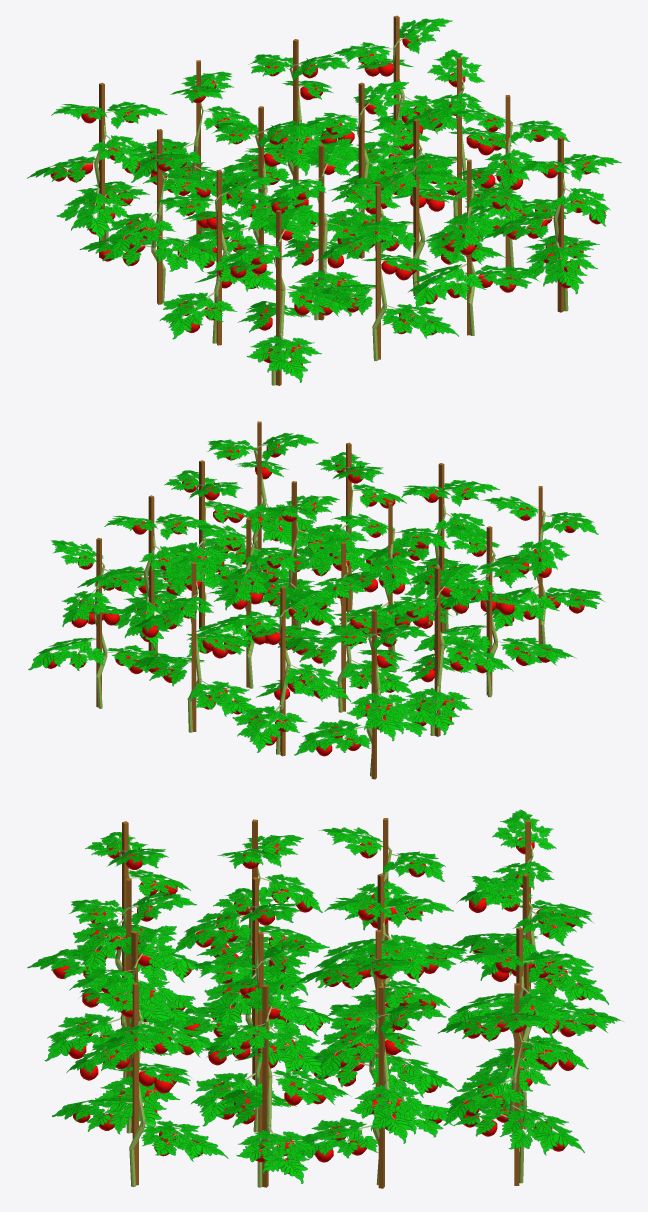
Rendered from tomato-stage3.glb.
3 renders of one model, top to bottom at view 1: azimuth 30°, elevation 25°; view 2: azimuth 150°, elevation 25°; view 3: azimuth 270°, elevation 25°, orthographic. The views are drawn at different scales.
Parts seen in each view (by area): view 1: Tomatoe_F3.001; view 2: Tomatoe_F3.001; view 3: Tomatoe_F3.001.
Part boxes in pixels (x1,y1,x2,y2): Tomatoe_F3.001: (27,15,621,385); Tomatoe_F3.001: (28,421,605,779); Tomatoe_F3.001: (27,809,623,1188).
Bounding box in the file's own units: 2.5 × 0.8909 × 2.5.
1 material, 1 textured.
